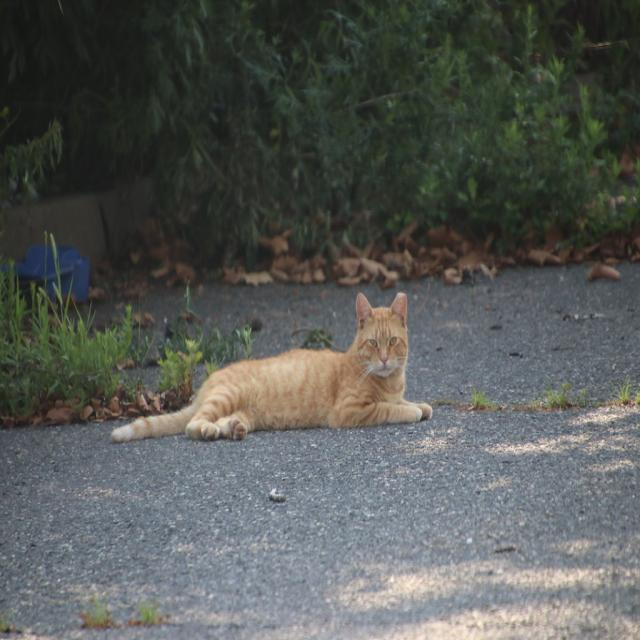cat: (111, 292, 431, 442)
